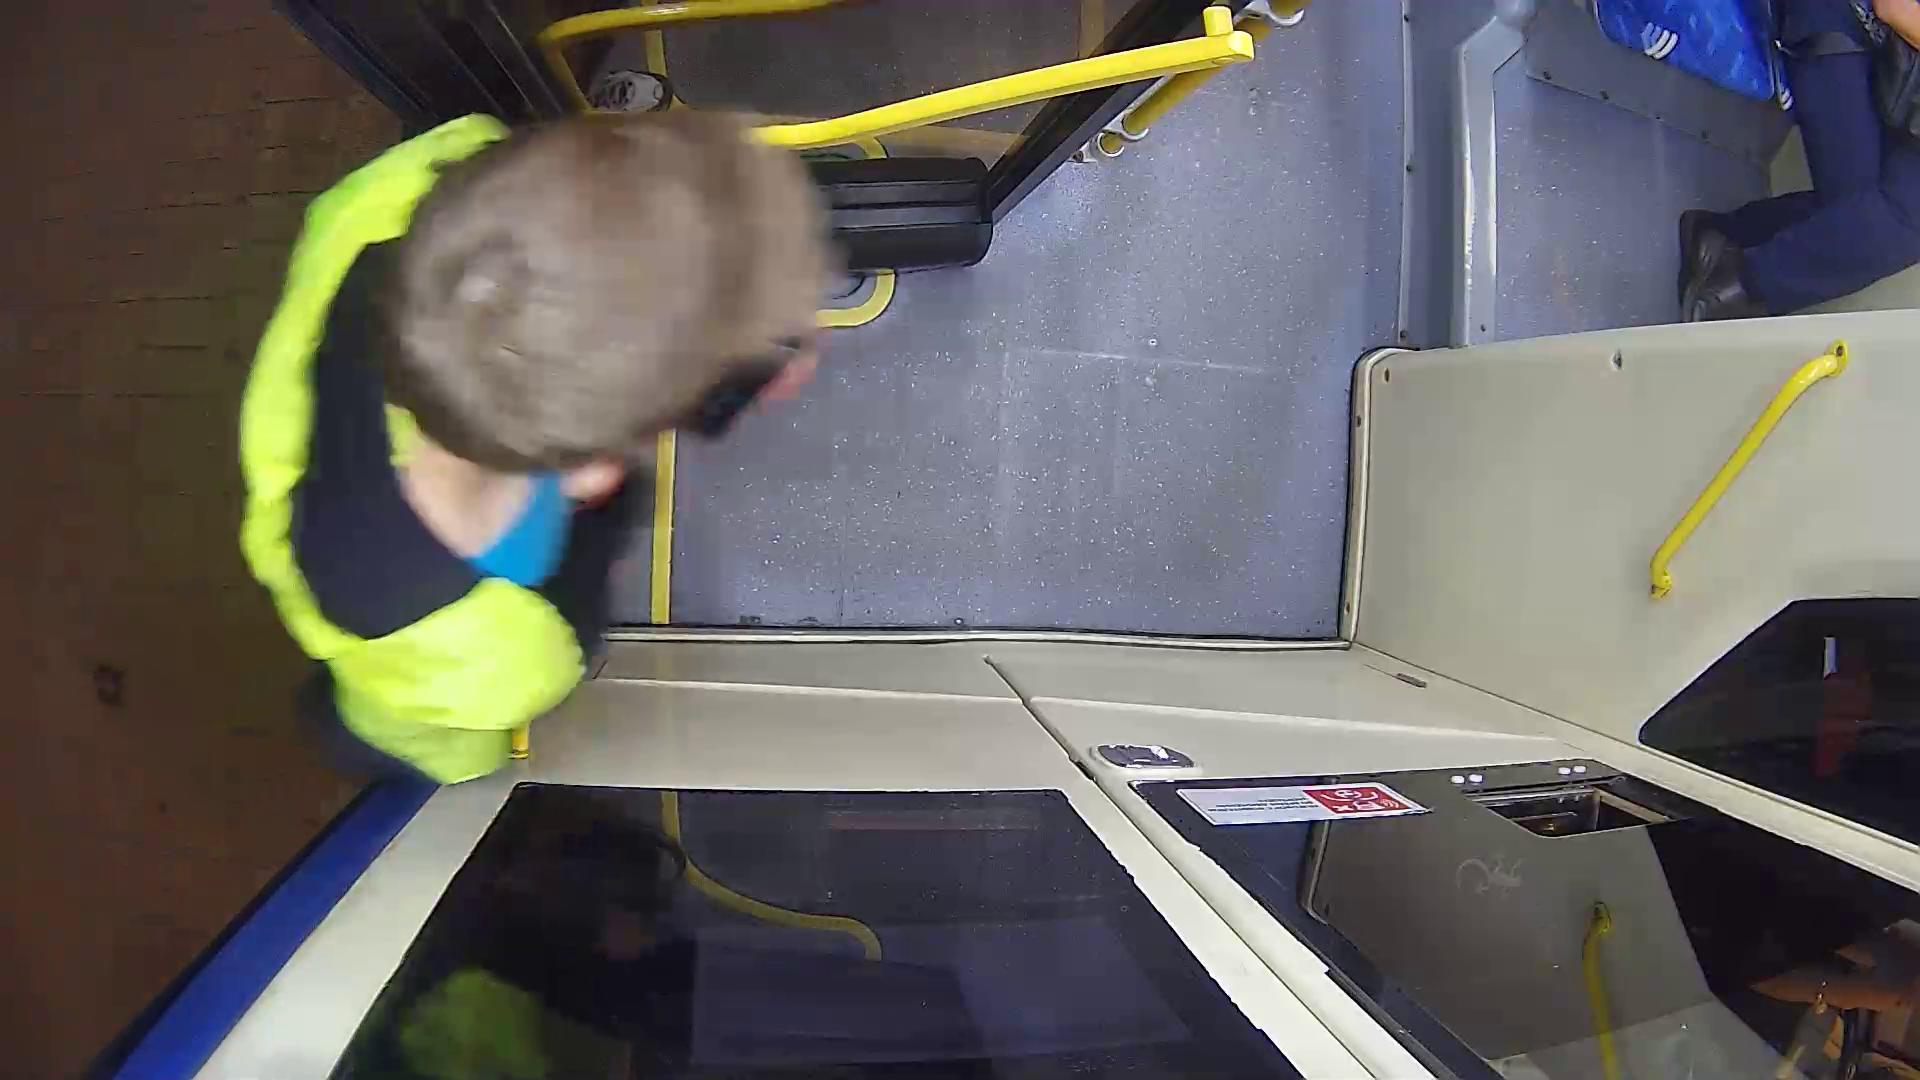person: (206, 100, 905, 767)
